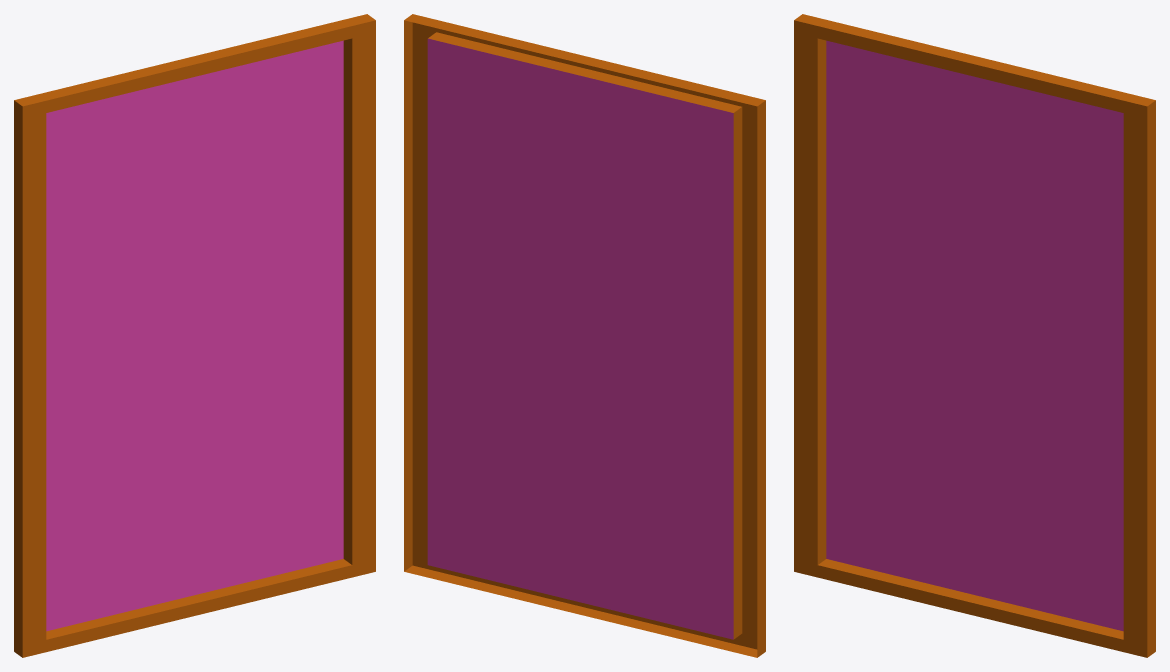
Rendered from PosterB_001.fbx.
3 renders of one model, left to right at view 1: azimuth 30°, elevation 25°; view 2: azimuth 150°, elevation 25°; view 3: azimuth 330°, elevation 25°, orthographic.
Visible parts, largest first — view 1: PosterB_001; view 2: PosterB_001; view 3: PosterB_001.
Part boxes in pixels (<box>): PosterB_001: <box>14,14,375,657</box>; PosterB_001: <box>404,14,765,657</box>; PosterB_001: <box>794,14,1155,657</box>.
Bounding box in the file's own units: 166 × 248 × 7.
